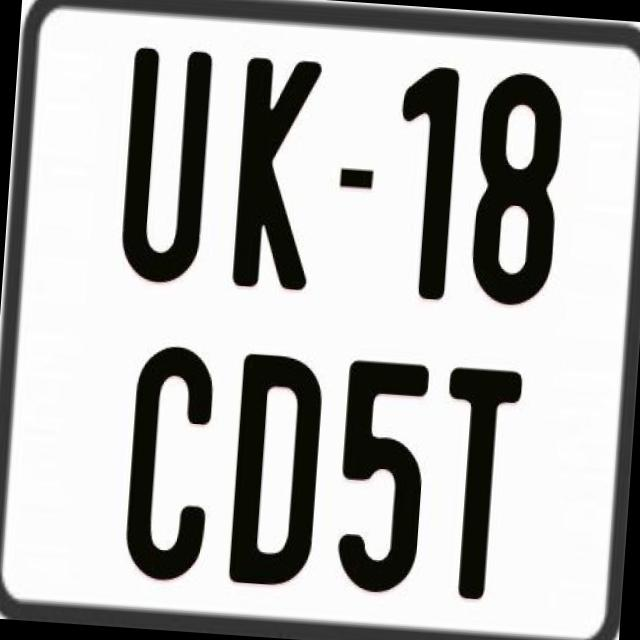1: (384, 61, 459, 304)
5: (330, 354, 430, 589)
8: (464, 64, 568, 304)
C: (123, 343, 225, 583)
D: (227, 348, 329, 582)
K: (230, 54, 322, 290)
T: (434, 366, 529, 608)
U: (118, 42, 215, 282)
